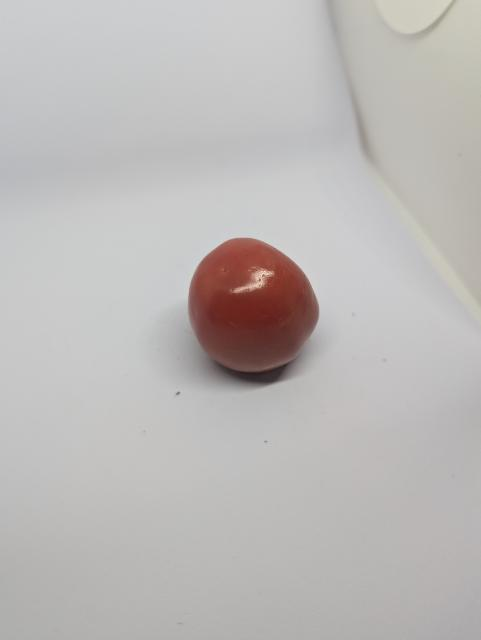red: (182, 232, 327, 381)
